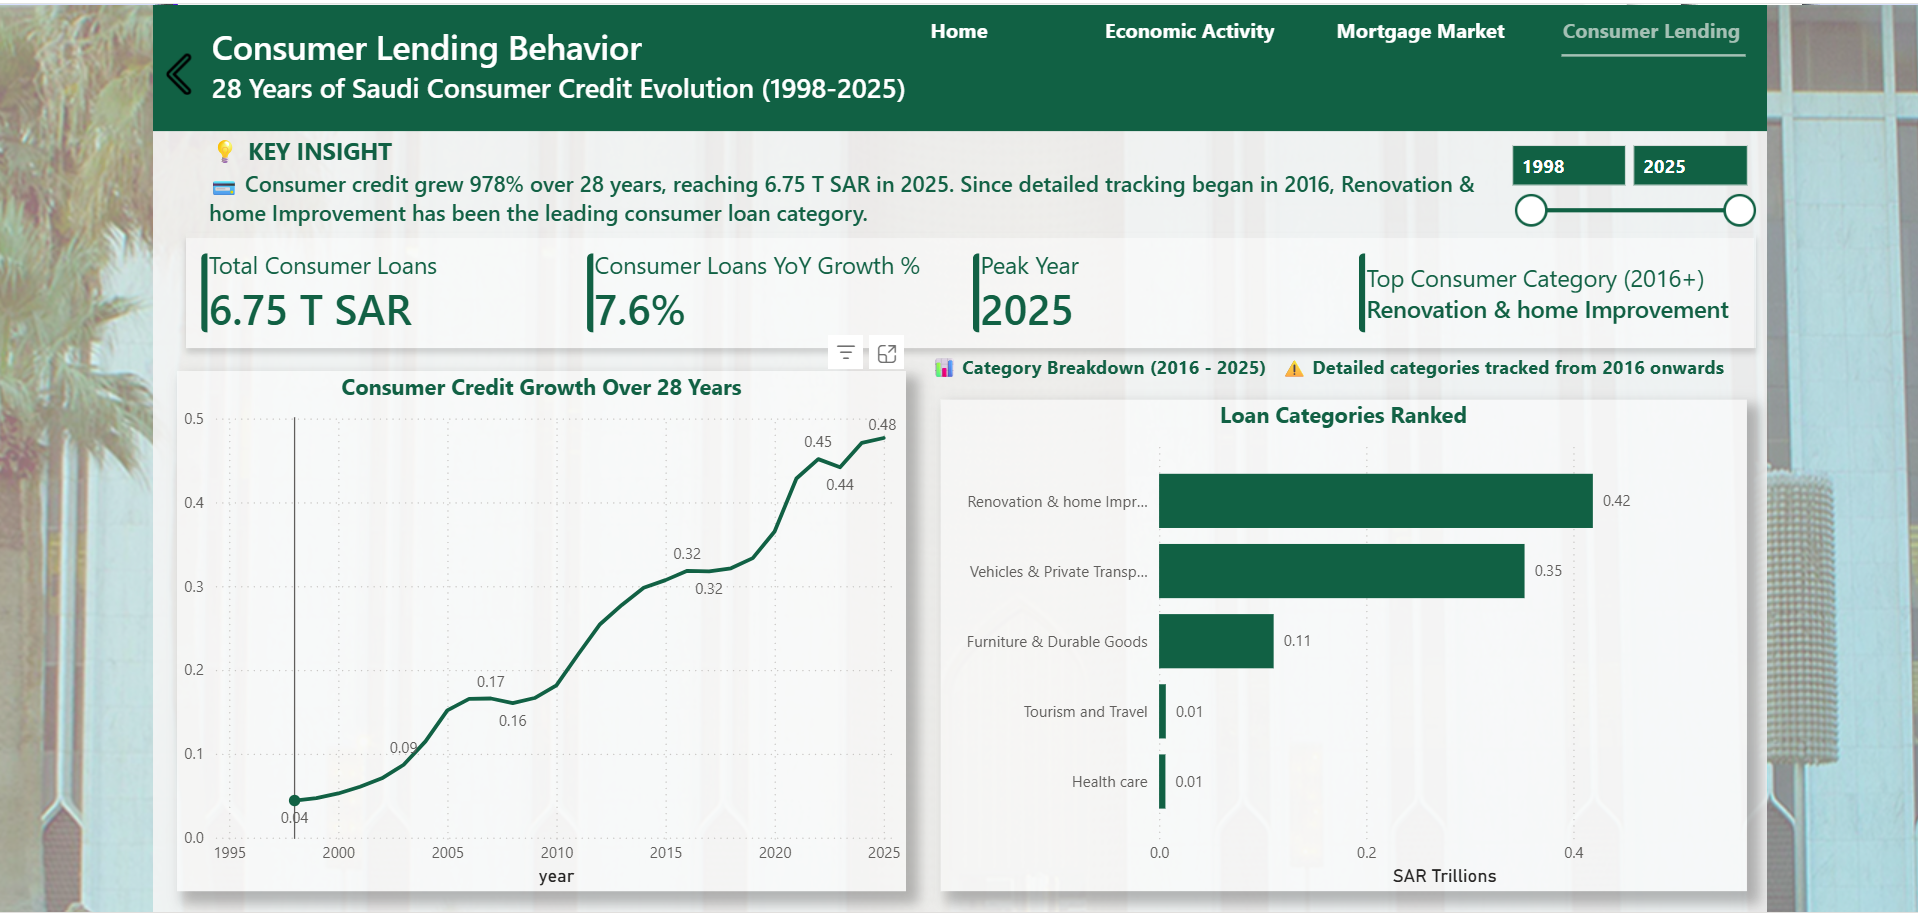

The dashboard page shown, as its layout file describes it:
{"tool":"powerbi","page":{"name":"Consumer Lending ","canvas":[1280,720],"ordinal":3},"visuals":[{"type":"shape","box":[0,0,1280,100],"z":0},{"type":"textbox","box":[41.4,10,628.6,87.1],"z":1000},{"type":"cardVisual","fields":{"Data":["_Measures.Total Consumer Loans Display","_Measures.Consumer Loans YoY Growth %","_Measures.Peak Year","_Measures.Top Consumer Category (2016+)"]},"box":[26.3,180.3,1245.6,91.1],"z":2000},{"type":"lineChart","title":"Consumer Credit Growth Over 28 Years","fields":{"Category":["DateTable.year"],"Y":["_Measures.Total Consumer Loans(Trillions)"]},"box":[18.9,289.8,578.1,412.7],"z":3000},{"type":"slicer","fields":{"Values":["DateTable.year"]},"box":[1064.9,100.6,214.9,78.5],"z":4000},{"type":"actionButton","box":[0,34.7,52,41],"z":5000},{"type":"cardVisual","fields":{"Data":["_Measures.Consumer Loans Insight"]},"box":[15.2,75.8,1066.2,126.7],"z":6000},{"type":"clusteredBarChart","title":"Loan Categories Ranked","fields":{"Category":["Consumer_Loans.Loan_Category"],"Y":["_Measures.Total Consumer Loans(Trillions)"]},"box":[624,312.7,639.2,389.9],"z":7000},{"type":"textbox","box":[613,271.4,640.6,41.3],"z":8000},{"type":"pageNavigator","box":[551,0,728.7,39.9],"z":10000},{"type":"shape","box":[1117.2,26.2,146,27.6],"z":11000}]}

Visuals, with their boxes on the page's 1280x720 design canvas (x1, y1, x2, y2). These are canvas units, not pixel positions in the 1918x913 screenshot, which may show the page scaled, cropped or inside an application window:
shape: region(0, 0, 1280, 100)
textbox: region(41, 10, 670, 97)
cardVisual - _Measures.Total Consumer Loans Display x _Measures.Consumer Loans YoY Growth %: region(26, 180, 1272, 271)
"Consumer Credit Growth Over 28 Years" lineChart: region(19, 290, 597, 702)
slicer - DateTable.year: region(1065, 101, 1280, 179)
actionButton: region(0, 35, 52, 76)
cardVisual - _Measures.Consumer Loans Insight: region(15, 76, 1081, 202)
"Loan Categories Ranked" clusteredBarChart: region(624, 313, 1263, 703)
textbox: region(613, 271, 1254, 313)
pageNavigator: region(551, 0, 1280, 40)
shape: region(1117, 26, 1263, 54)
